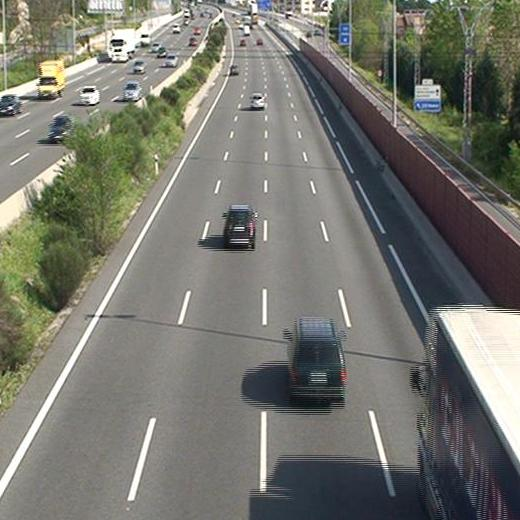car: (286, 319, 347, 399), (223, 206, 255, 245), (250, 94, 263, 108), (230, 63, 240, 76)
